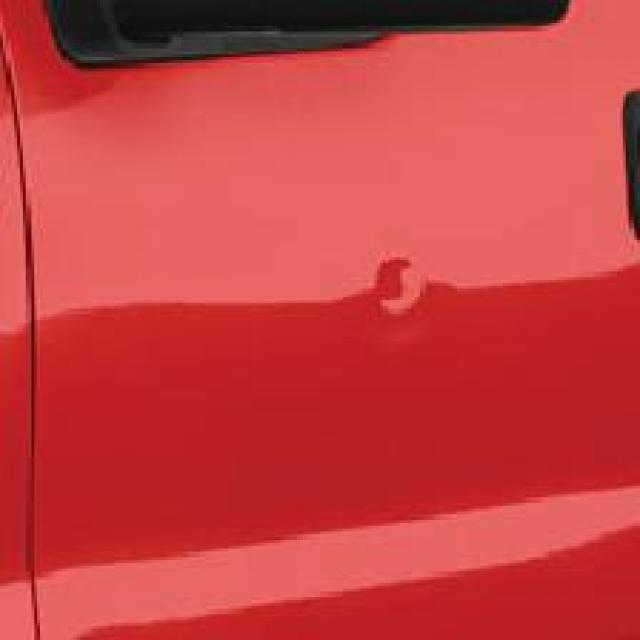damaged: (368, 254, 432, 323)
